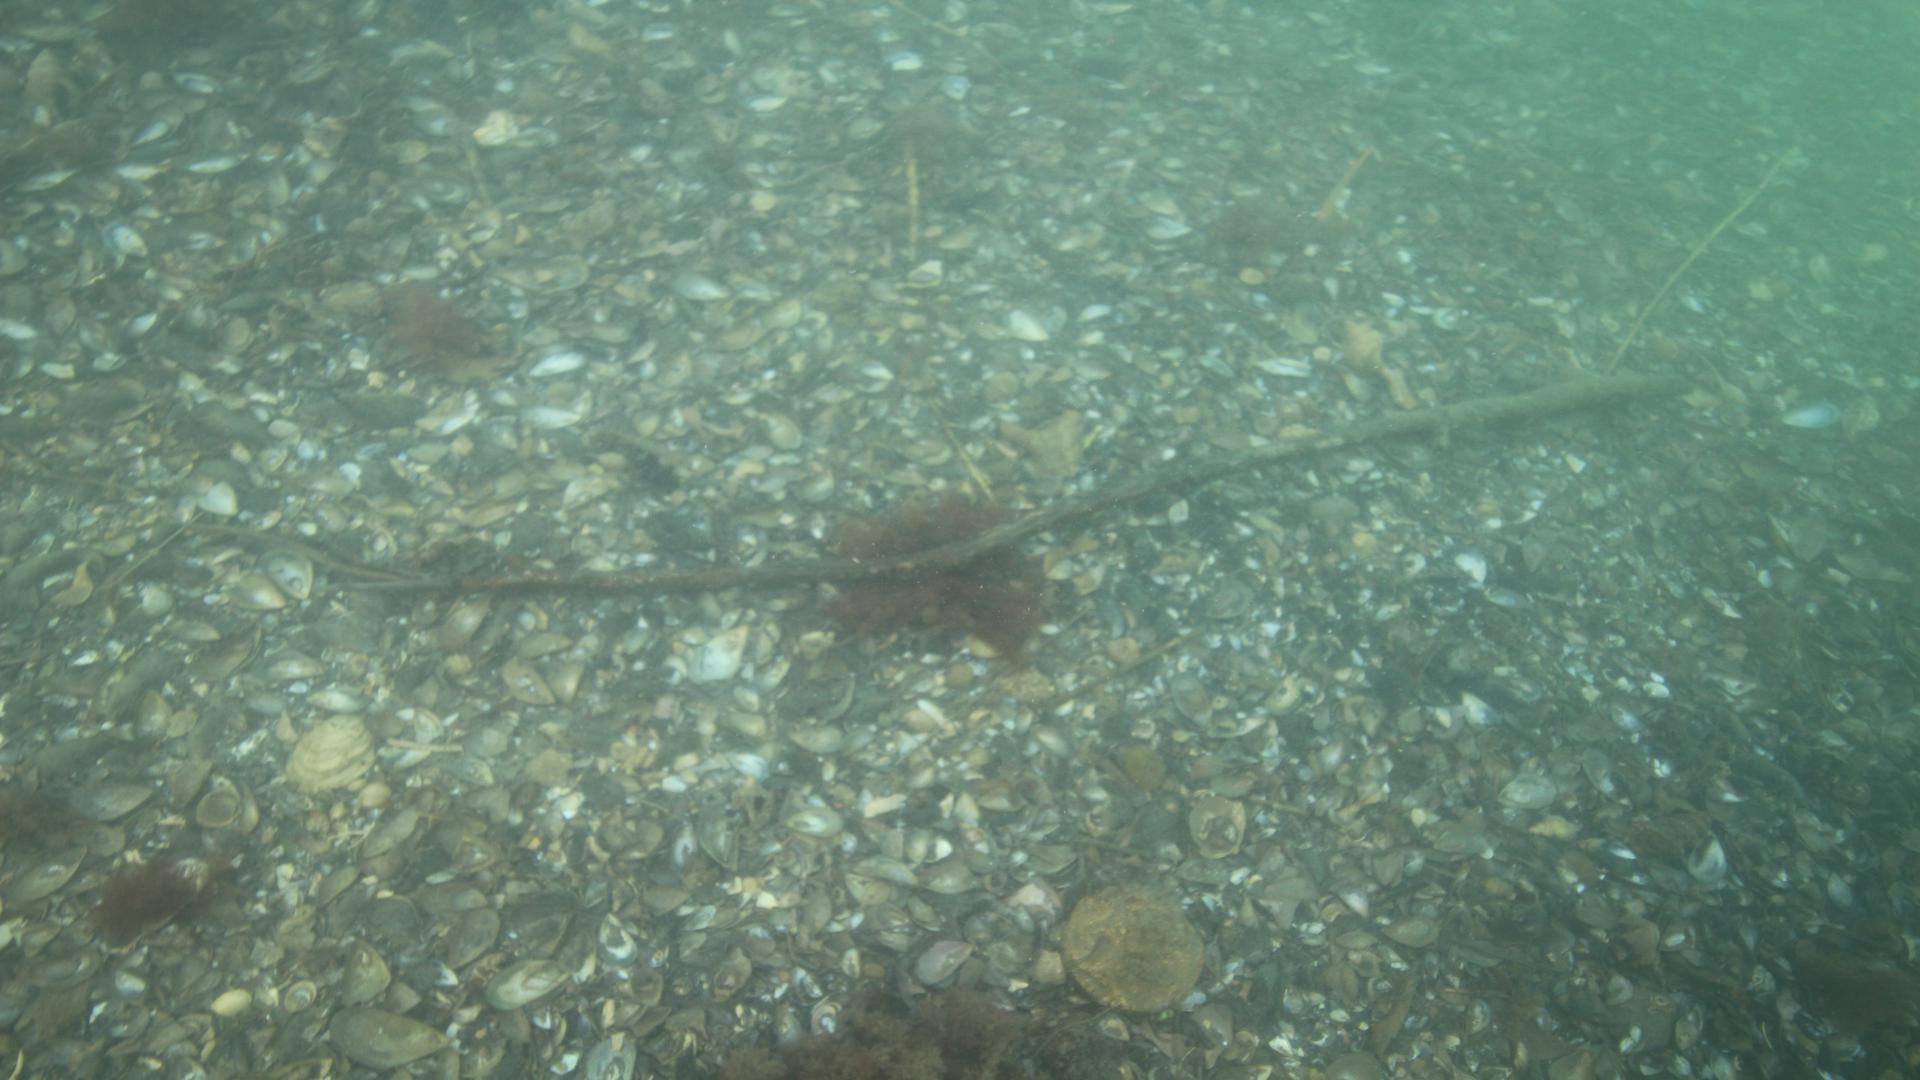wood: (468, 372, 1695, 585)
